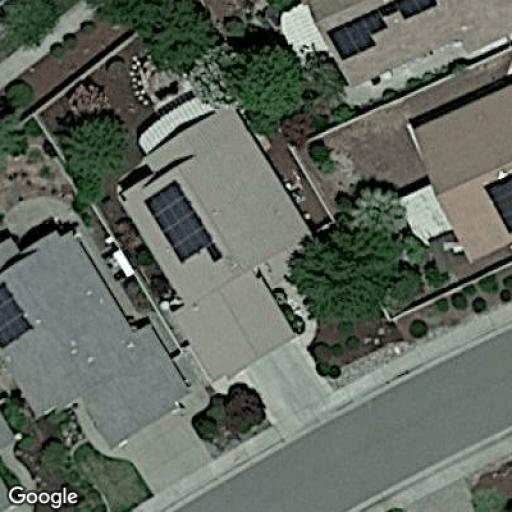solar-panel: (141, 178, 224, 265), (325, 0, 439, 59), (0, 278, 35, 349), (481, 168, 512, 238)
